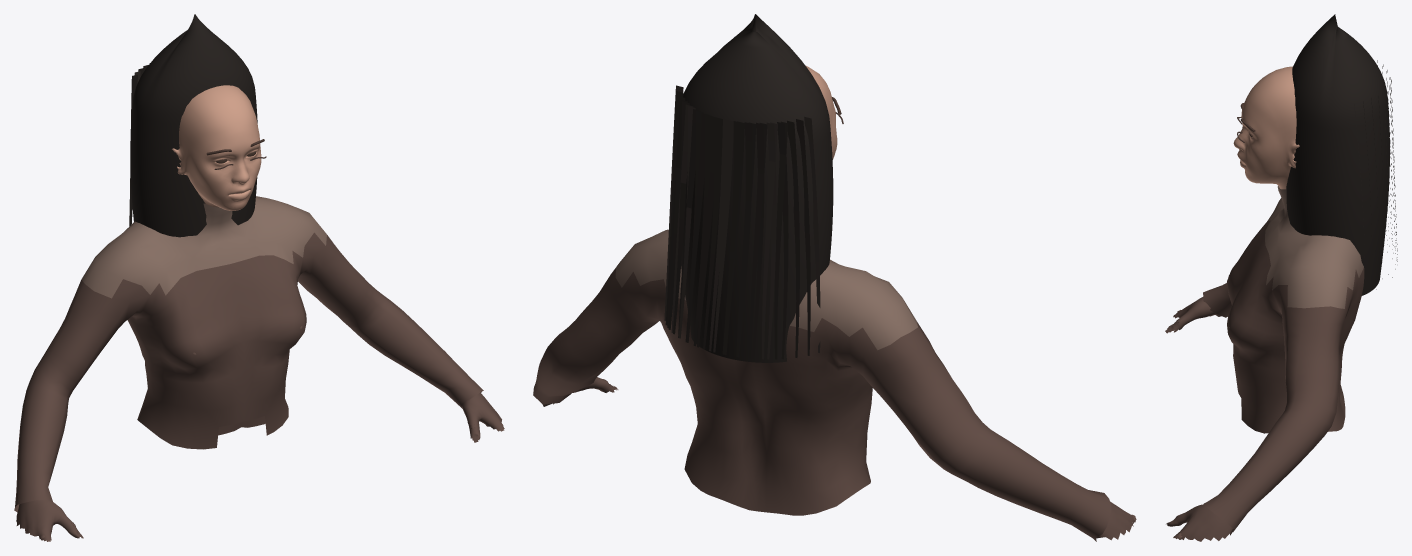
Rendered from avatar_V005_capelli_20261031.glb.
The picture shows the model from 3 angles, left to right: view 1: azimuth 30°, elevation 25°; view 2: azimuth 150°, elevation 25°; view 3: azimuth 270°, elevation 25°; orthographic projection. The views are drawn at different scales.
Parts seen in each view (by area): view 1: ARCHIVISTA_NUOVO_RIFERIMENTO_V49, V005_Calotta_Anatomica; view 2: ARCHIVISTA_NUOVO_RIFERIMENTO_V49, V005_Calotta_Anatomica, V50_Hair_layer_-1_7, V50_Hair_layer_1_7, V50_Hair_layer_-1_8, V50_Hair_layer_-1_2, V50_Hair_layer_1_13, V50_Hair_layer_-1_10, V50_Hair_layer_-1_9, V50_Hair_layer_-1_1, V50_Hair_layer_1_12, V50_Hair_layer_-1_3 (+13 smaller); view 3: ARCHIVISTA_NUOVO_RIFERIMENTO_V49, V005_Calotta_Anatomica.
Boxes of the visible parts, box(x1,y1,x2,y2) form: ARCHIVISTA_NUOVO_RIFERIMENTO_V49: box(14, 85, 504, 541); V005_Calotta_Anatomica: box(130, 14, 257, 237); ARCHIVISTA_NUOVO_RIFERIMENTO_V49: box(533, 65, 1136, 541); V005_Calotta_Anatomica: box(681, 14, 833, 362); V50_Hair_layer_-1_7: box(722, 121, 740, 354); V50_Hair_layer_1_7: box(703, 117, 722, 349); V50_Hair_layer_-1_8: box(709, 119, 729, 351); V50_Hair_layer_-1_2: box(787, 120, 799, 357); V50_Hair_layer_1_13: box(774, 121, 788, 359); V50_Hair_layer_-1_10: box(686, 113, 708, 342); V50_Hair_layer_-1_9: box(697, 116, 716, 347); V50_Hair_layer_-1_1: box(796, 119, 810, 355); V50_Hair_layer_1_12: box(762, 122, 777, 359); V50_Hair_layer_-1_3: box(777, 122, 788, 359); ARCHIVISTA_NUOVO_RIFERIMENTO_V49: box(1165, 66, 1364, 541); V005_Calotta_Anatomica: box(1286, 14, 1389, 295).
Bounding box in the file's own units: 0.9237 × 0.7725 × 0.3929.
